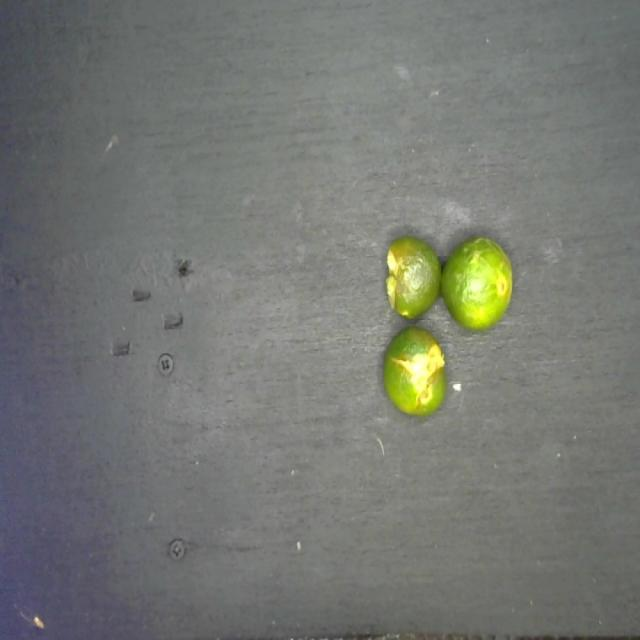biodegradable: (378, 220, 519, 430)
